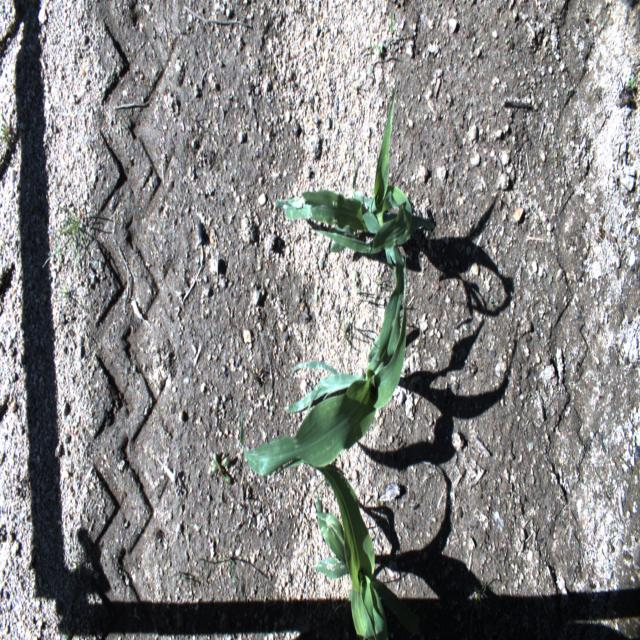crop: (240, 260, 410, 478), (274, 79, 435, 265), (312, 460, 389, 638)
weed: (43, 198, 92, 273), (54, 278, 78, 306), (211, 456, 232, 486), (0, 126, 28, 141), (465, 590, 489, 604), (384, 8, 395, 36), (353, 269, 361, 295), (628, 74, 637, 92), (352, 169, 358, 191)
